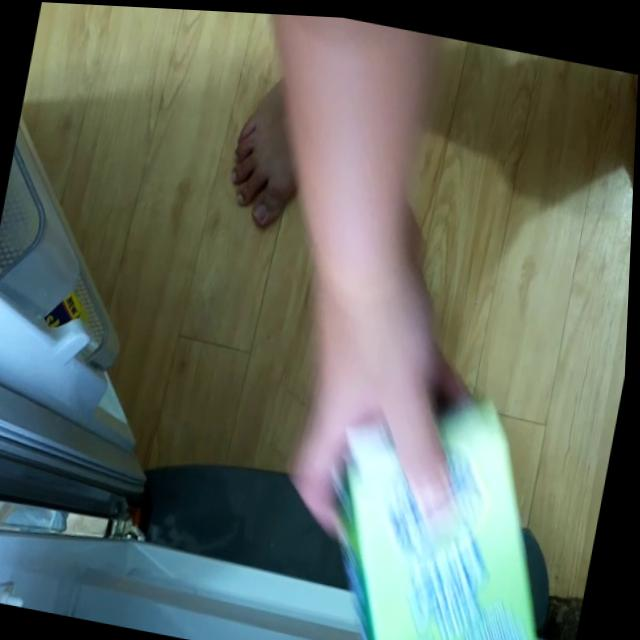milk: (309, 377, 601, 640)
